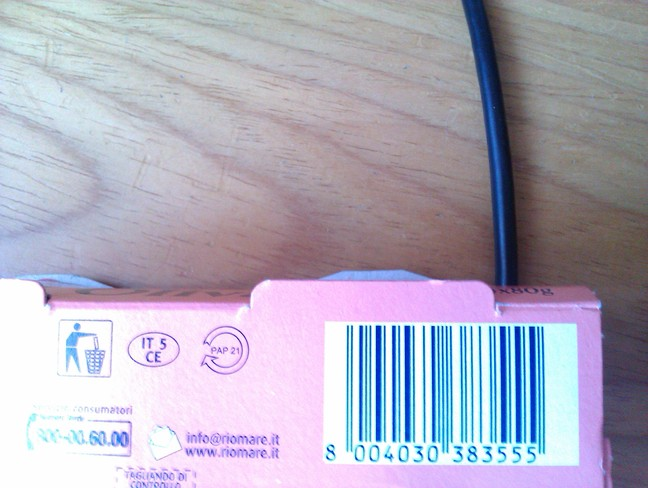detection: (324, 323, 576, 462)
